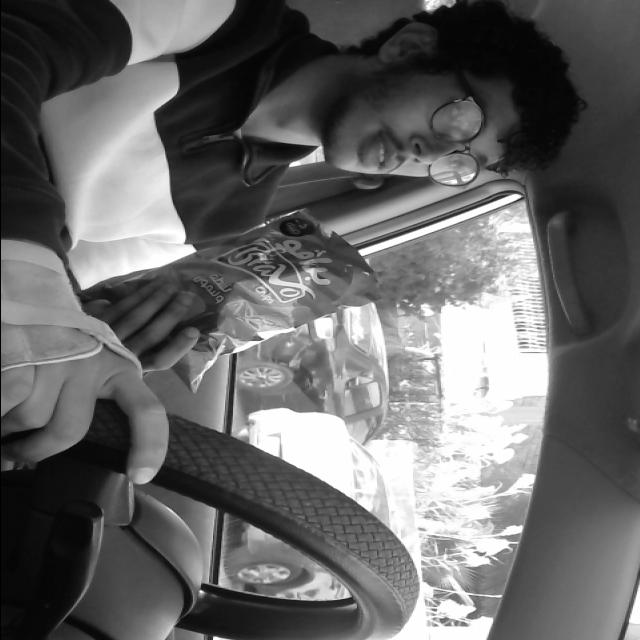eating: (74, 206, 386, 394)
